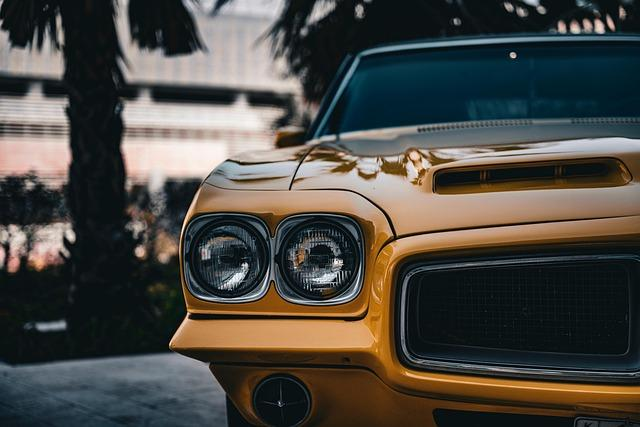Non_Gorille: (6, 2, 640, 427)
